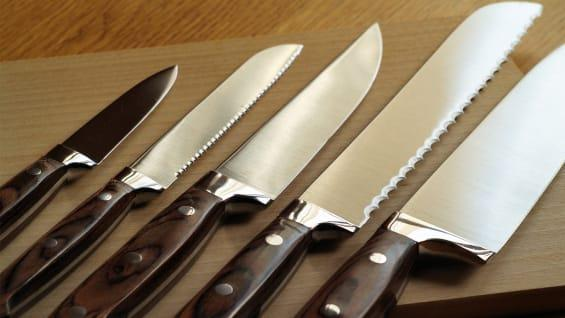faca: (174, 2, 539, 317), (50, 25, 382, 317), (3, 45, 302, 317), (297, 47, 564, 317)
